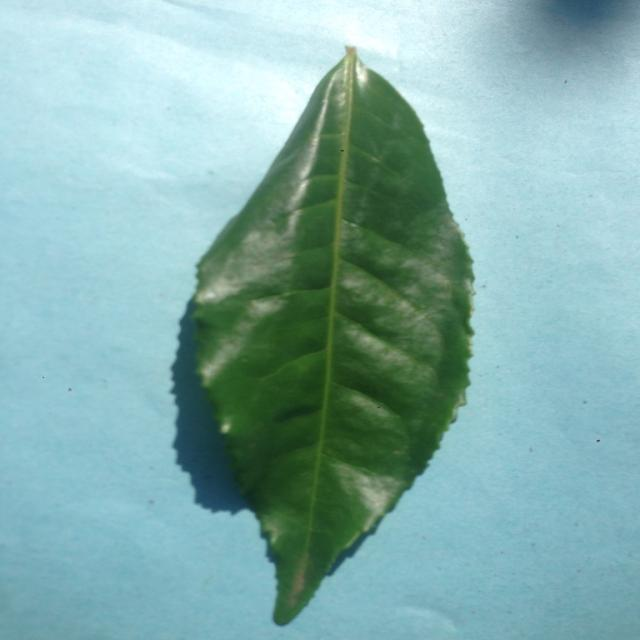Healthy: (168, 36, 510, 634)
